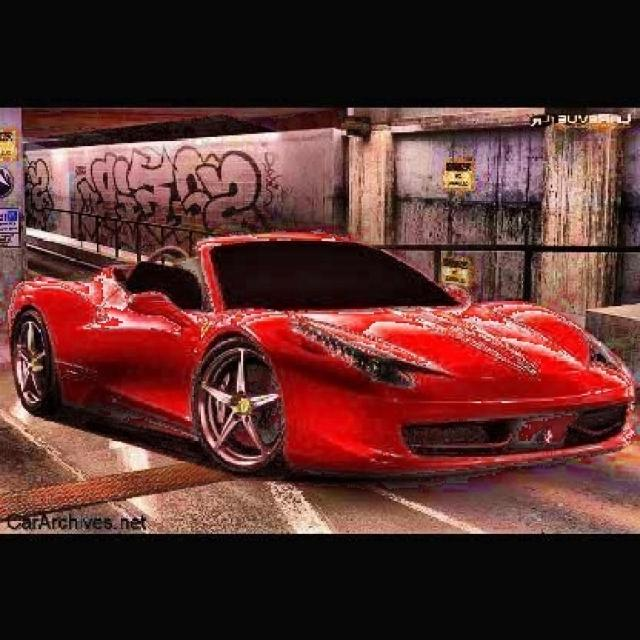maroon: (11, 231, 632, 474)
